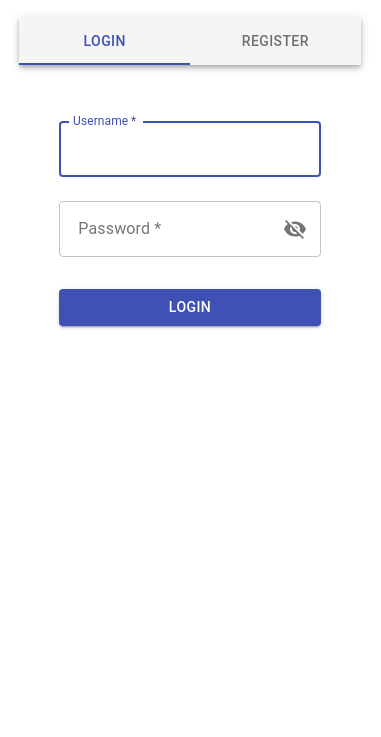
Scenario: Login Form › warning to fill all the details when password is filled but username is empty
Step 1. Type "aosd3e4" into the password field → [161, 229], box [59,201,263,257]
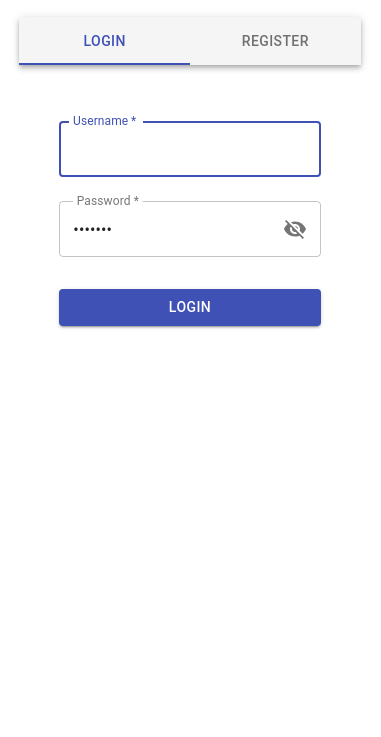
Step 2. Click the button with test id "loginButton" → [190, 307], box [59,289,321,326]
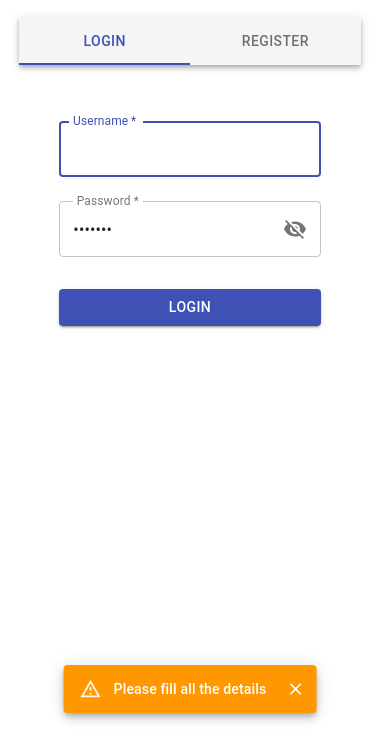
Expected: the text "Please fill all the details" is shown, [114,681,266,697]
